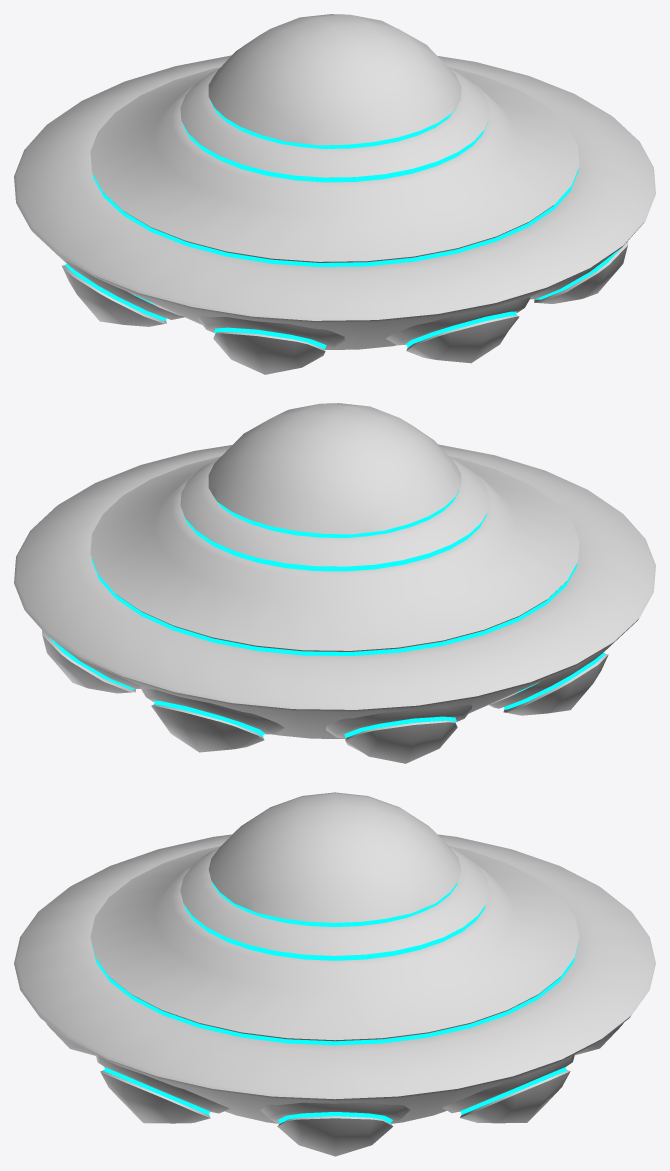
File: spaceship.glb
3 views of the same model, one above another, from view 1: azimuth 30°, elevation 25°; view 2: azimuth 150°, elevation 25°; view 3: azimuth 270°, elevation 25° (orthographic).
Parts seen in each view (by area): view 1: Cylinder.001; view 2: Cylinder.001; view 3: Cylinder.001.
Boxes of the visible parts, box(x1,y1,x2,y2) form: Cylinder.001: box(14, 14, 655, 374); Cylinder.001: box(14, 403, 655, 763); Cylinder.001: box(14, 792, 655, 1156).
Bounding box in the file's own units: 4.62 × 1.97 × 4.62.
